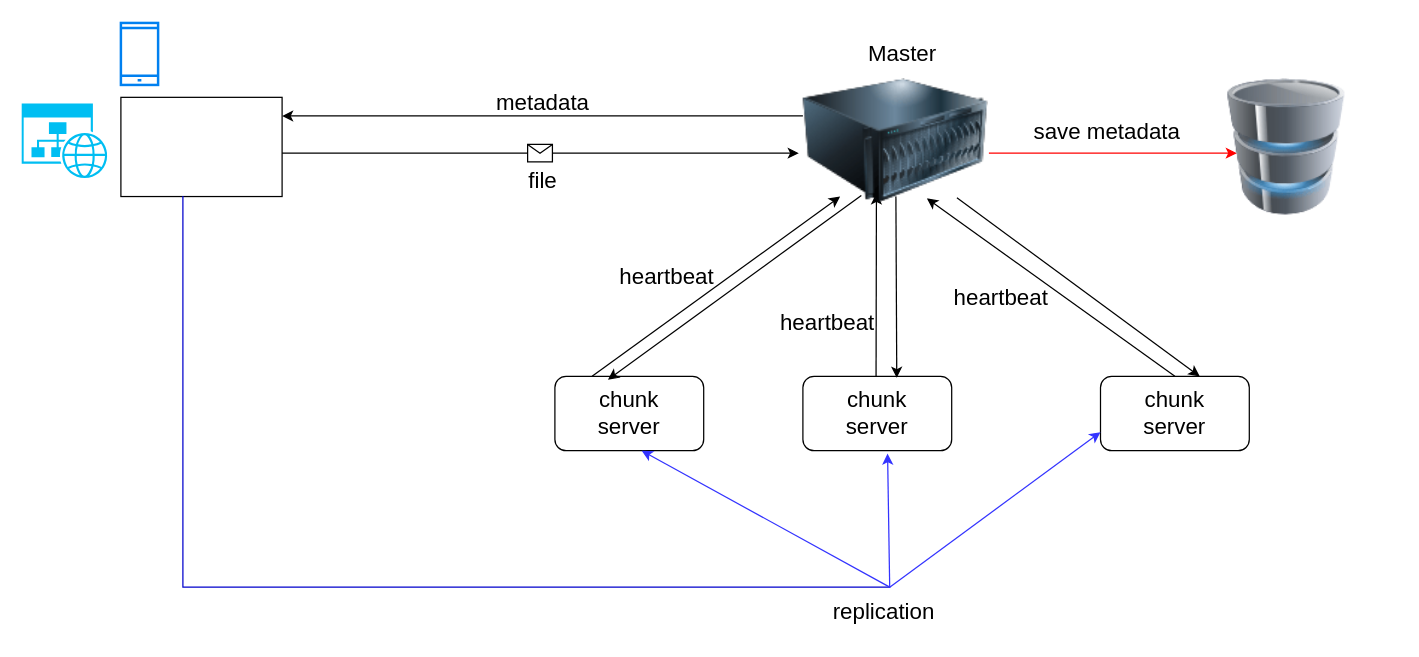
This 1419x657 diagram has some shape labels left out. The box of each missing label's shape, as (x1, y1, x2, y2) in pixels:
DB: (1199, 78, 1373, 215)
DFS Client: (120, 96, 282, 197)
